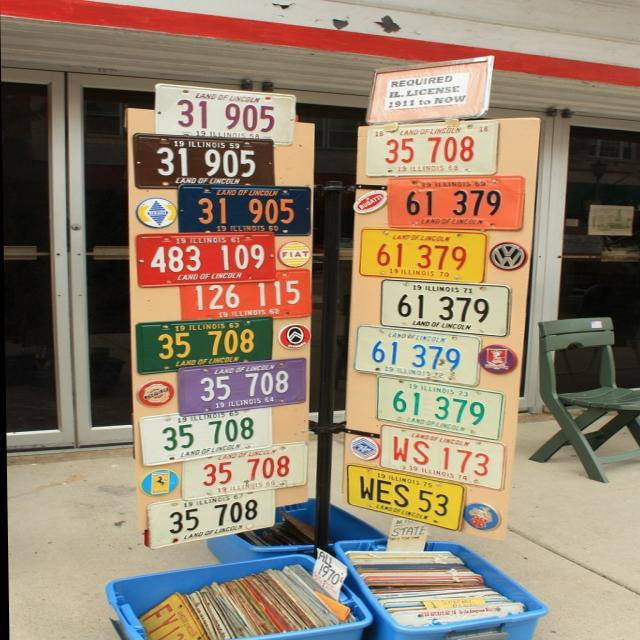Plaque: (137, 130, 279, 186), (170, 265, 309, 320), (384, 428, 513, 486), (175, 184, 308, 238), (139, 324, 277, 376), (391, 176, 529, 228), (383, 384, 504, 439), (382, 286, 503, 341), (138, 234, 278, 281), (347, 468, 453, 530), (174, 361, 298, 412), (168, 88, 286, 141), (361, 328, 478, 381), (371, 126, 489, 178), (366, 234, 482, 284), (146, 414, 265, 462), (151, 503, 277, 542)
